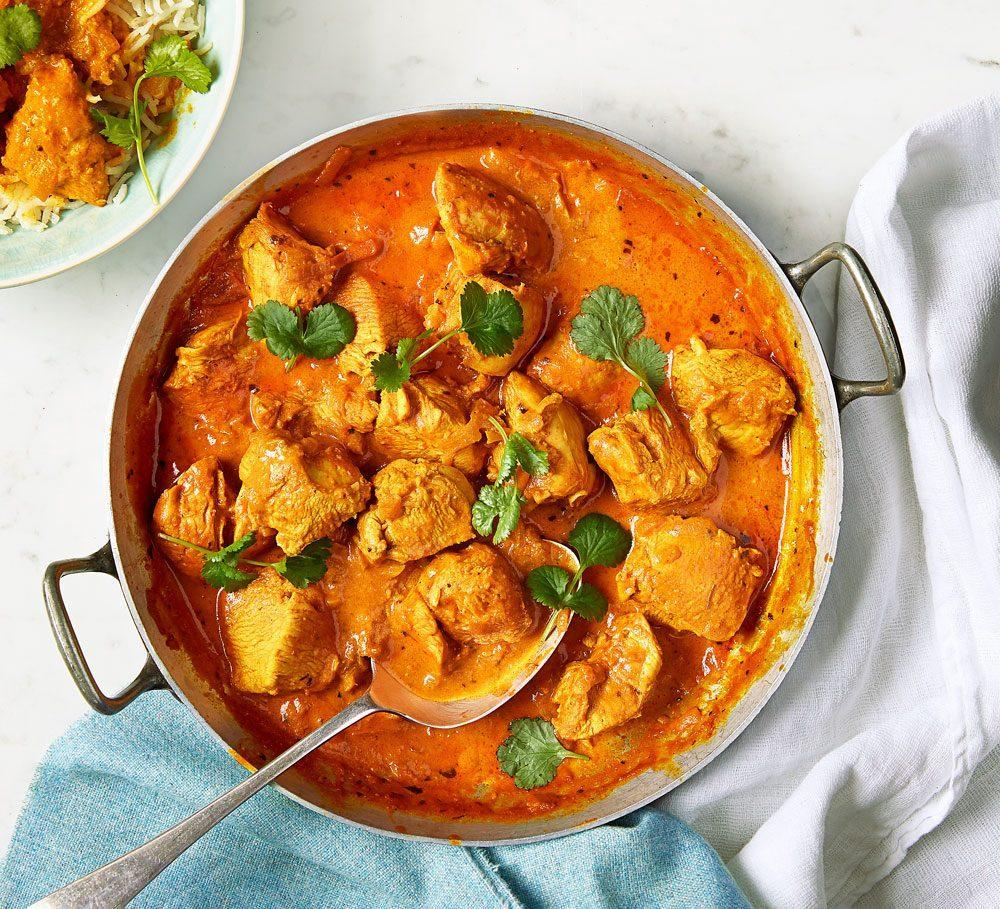chicken: (198, 199, 772, 810)
